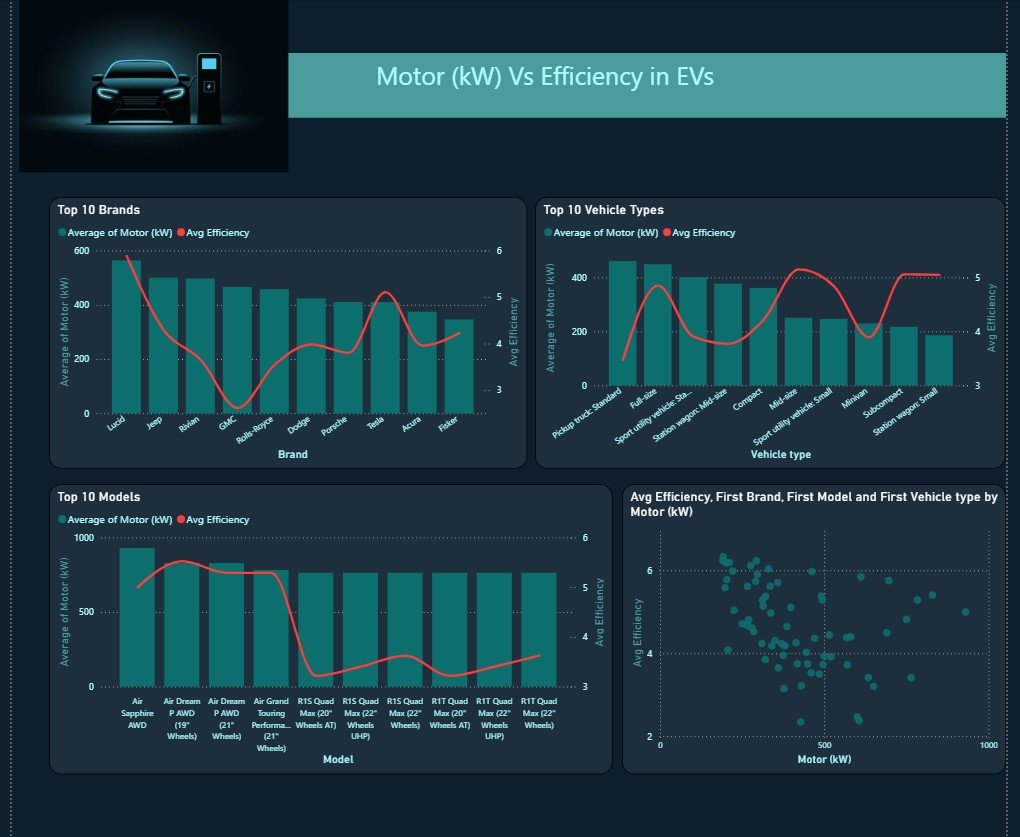

Layout of this report page (visuals, bound fields, positions):
{"tool":"powerbi","page":{"name":"Motor Vs Efficiency","canvas":[1280,1100],"ordinal":1},"visuals":[{"type":"lineStackedColumnComboChart","title":"Top 10 Brands","fields":{"Category":["EV Energy Efficiency Dataset.Brand"],"Y":["Avg(EV Energy Efficiency Dataset.Motor (kW))"],"Y2":["EV Energy Efficiency Dataset.Avg Efficiency"]},"box":[47.3,253.1,615.7,350.2],"z":0},{"type":"lineStackedColumnComboChart","title":"Top 10 Models","fields":{"Category":["EV Energy Efficiency Dataset.Model"],"Y":["Avg(EV Energy Efficiency Dataset.Motor (kW))"],"Y2":["EV Energy Efficiency Dataset.Avg Efficiency"]},"box":[47.9,623.9,726.5,373.5],"z":1000},{"type":"lineStackedColumnComboChart","title":"Top 10 Vehicle Types","fields":{"Category":["EV Energy Efficiency Dataset.Vehicle type"],"Y":["Avg(EV Energy Efficiency Dataset.Motor (kW))"],"Y2":["EV Energy Efficiency Dataset.Avg Efficiency"]},"box":[673.9,253.1,606.1,350.2],"z":2000},{"type":"textbox","box":[93,68.4,1187.6,83.5],"z":3000},{"type":"image","box":[0,0,365.3,221.6],"z":4000},{"type":"scatterChart","title":"Avg Efficiency, First Brand, First Model and First Vehicle type by Motor (kW)","fields":{"X":["EV Energy Efficiency Dataset.Motor (kW)"],"Y":["EV Energy Efficiency Dataset.Avg Efficiency"]},"box":[785.3,623.9,495.3,373.5],"z":5000}]}

Visuals, with their boxes on the page's 1280x1100 design canvas (x1, y1, x2, y2). These are canvas units, not pixel positions in the 1020x837 screenshot, which may show the page scaled, cropped or inside an application window:
"Top 10 Brands" lineStackedColumnComboChart: detection(47, 253, 663, 603)
"Top 10 Models" lineStackedColumnComboChart: detection(48, 624, 774, 997)
"Top 10 Vehicle Types" lineStackedColumnComboChart: detection(674, 253, 1280, 603)
textbox: detection(93, 68, 1281, 152)
image: detection(0, 0, 365, 222)
"Avg Efficiency, First Brand, First Model and First Vehicle type by Motor (kW)" scatterChart: detection(785, 624, 1281, 997)
